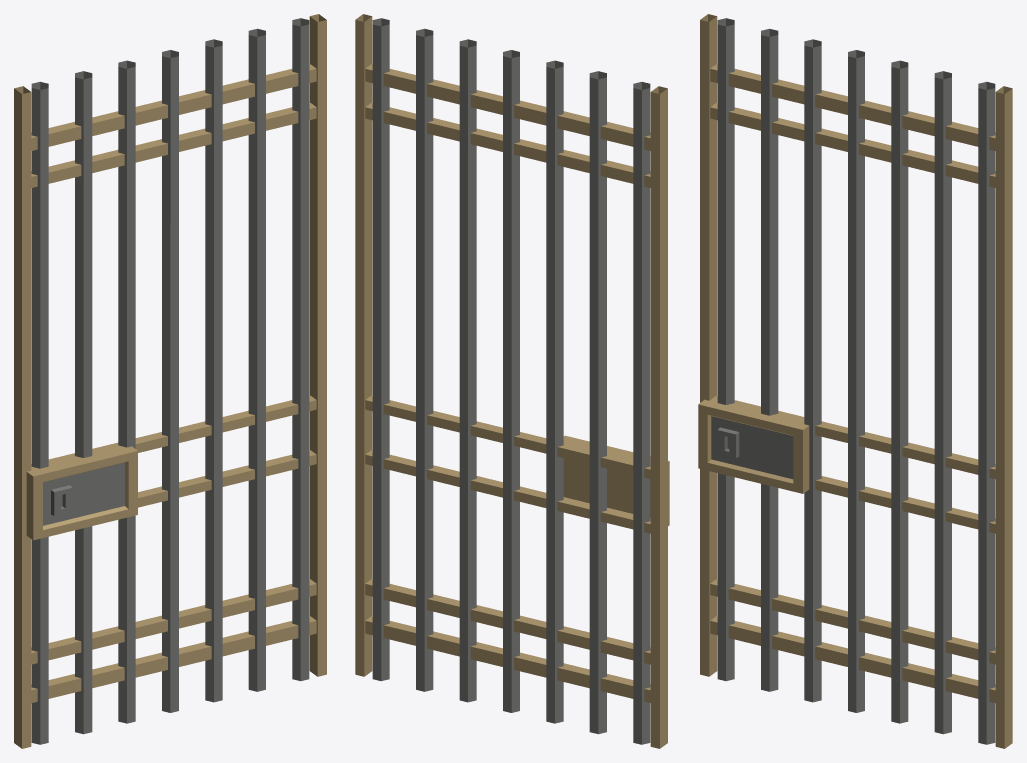
Rendered from VaultGate_Door_01.glb.
3 renders of one model, left to right at view 1: azimuth 30°, elevation 25°; view 2: azimuth 150°, elevation 25°; view 3: azimuth 330°, elevation 25°, orthographic.
Parts seen in each view (by area): view 1: SM_Env_VaultGate_Door_01; view 2: SM_Env_VaultGate_Door_01; view 3: SM_Env_VaultGate_Door_01.
Part boxes in pixels (left/top/right/bottom): SM_Env_VaultGate_Door_01: left=14, top=14, right=326, bottom=748; SM_Env_VaultGate_Door_01: left=355, top=14, right=669, bottom=748; SM_Env_VaultGate_Door_01: left=698, top=14, right=1012, bottom=748.
Size of the model in its own units: 1.46 by 3 by 0.1285.
Materials: 1 (1 with a texture image).
